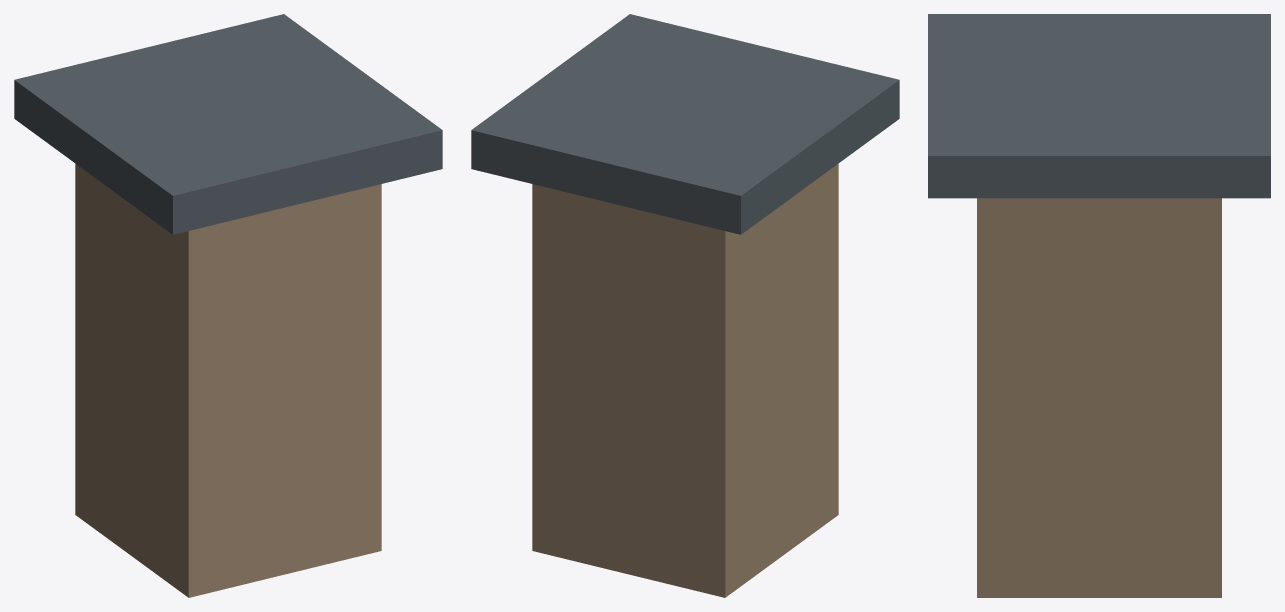
Rendered from iz2_sidewalk_tree_pit.glb.
3 renders of one model, left to right at view 1: azimuth 30°, elevation 25°; view 2: azimuth 150°, elevation 25°; view 3: azimuth 270°, elevation 25°, orthographic. The views are drawn at different scales.
Parts seen in each view (by area): view 1: body; view 2: body; view 3: body.
Part boxes in pixels (box(x1,y1,x2,y2)): body: box(14, 14, 442, 597); body: box(471, 14, 899, 597); body: box(928, 14, 1270, 597).
Bounding box in the file's own units: 0.7093 × 1.08 × 0.7228.
